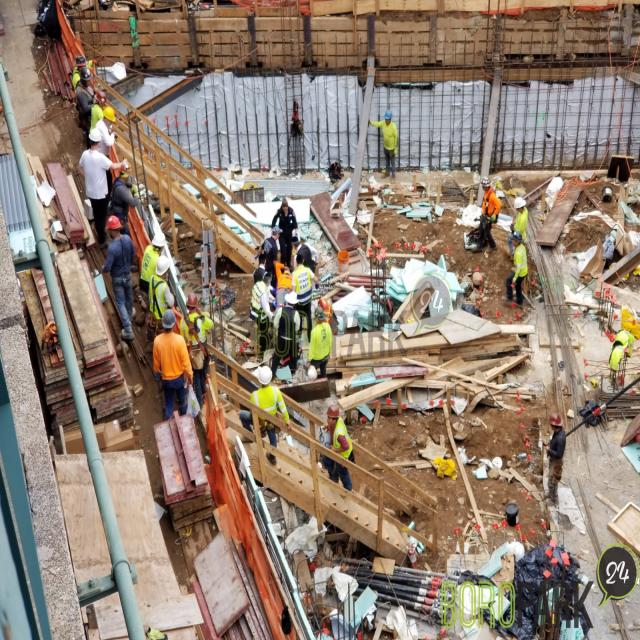Reflective-Jacket: (606, 324, 635, 377), (372, 110, 400, 160), (156, 333, 186, 378), (309, 327, 333, 381), (250, 385, 282, 417), (150, 275, 169, 316), (333, 418, 352, 456), (293, 265, 312, 301), (382, 120, 398, 151), (514, 244, 527, 278), (484, 189, 498, 218), (387, 109, 388, 121)
Safety-Helmet: (162, 309, 176, 327), (258, 365, 272, 383), (156, 255, 170, 272), (152, 231, 166, 247), (549, 412, 563, 427), (107, 214, 121, 229), (104, 105, 116, 122), (506, 501, 519, 515), (327, 404, 340, 417), (187, 293, 198, 308), (515, 196, 526, 209), (473, 272, 483, 284), (482, 175, 491, 186), (513, 230, 522, 240), (543, 568, 551, 579)
